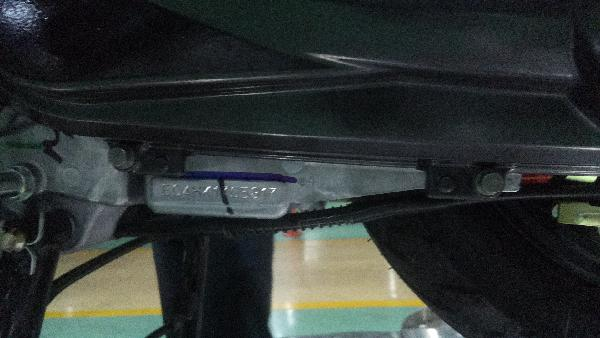box: (159, 182, 277, 202)
